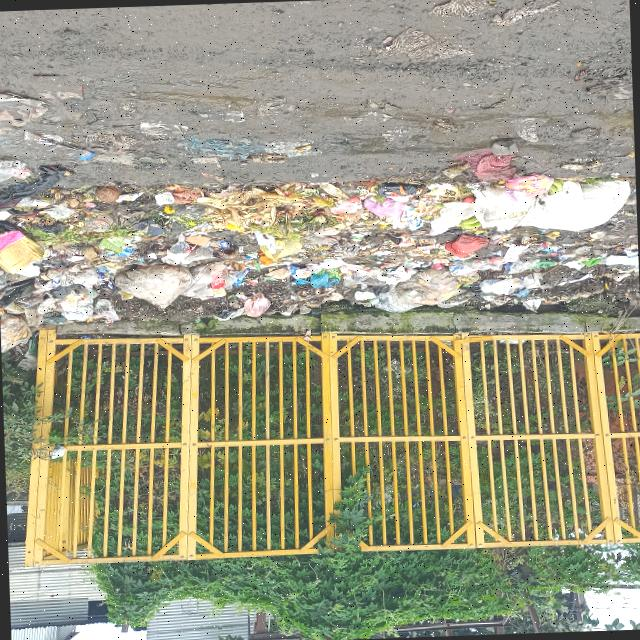garbage: (0, 127, 638, 336)
